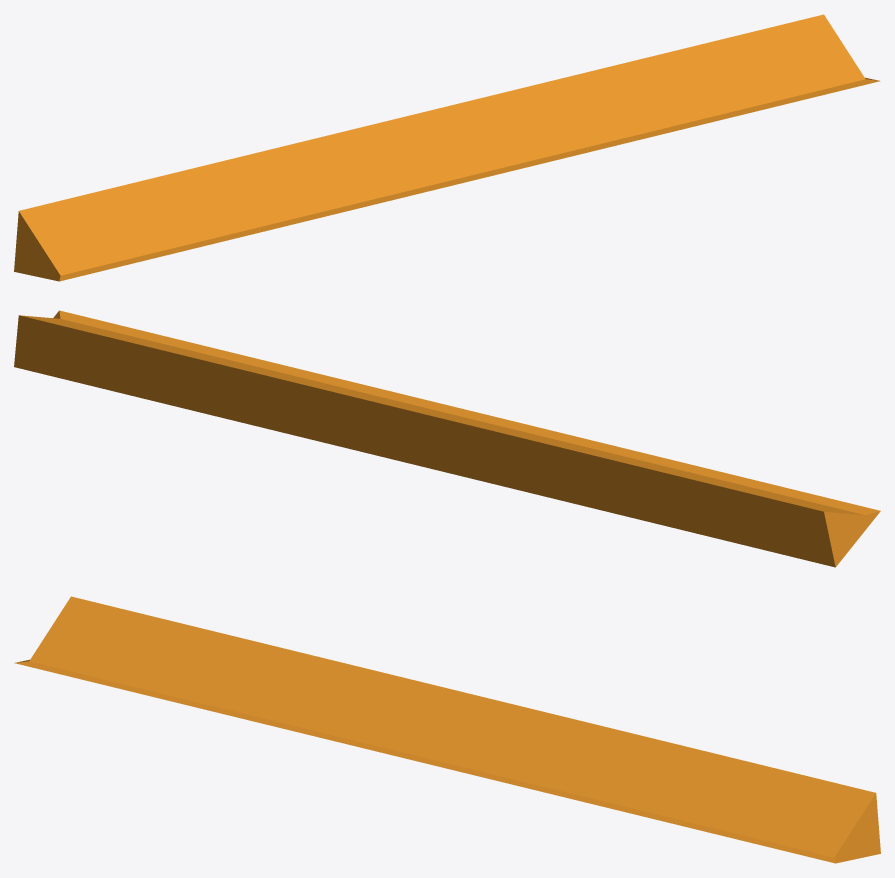
The model's file is protoCoupe_spoiler_ducktail.glb.
3 views of the same model, one above another, from view 1: azimuth 30°, elevation 25°; view 2: azimuth 150°, elevation 25°; view 3: azimuth 330°, elevation 25° (orthographic).
Parts seen in each view (by area): view 1: spoiler_ducktail; view 2: spoiler_ducktail; view 3: spoiler_ducktail.
Part boxes in pixels (box(x1,y1,x2,y2)): spoiler_ducktail: box(14, 14, 880, 281); spoiler_ducktail: box(14, 310, 880, 567); spoiler_ducktail: box(14, 596, 880, 863).
Size of the model in its own units: 1.36 by 0.0892 by 0.14.
